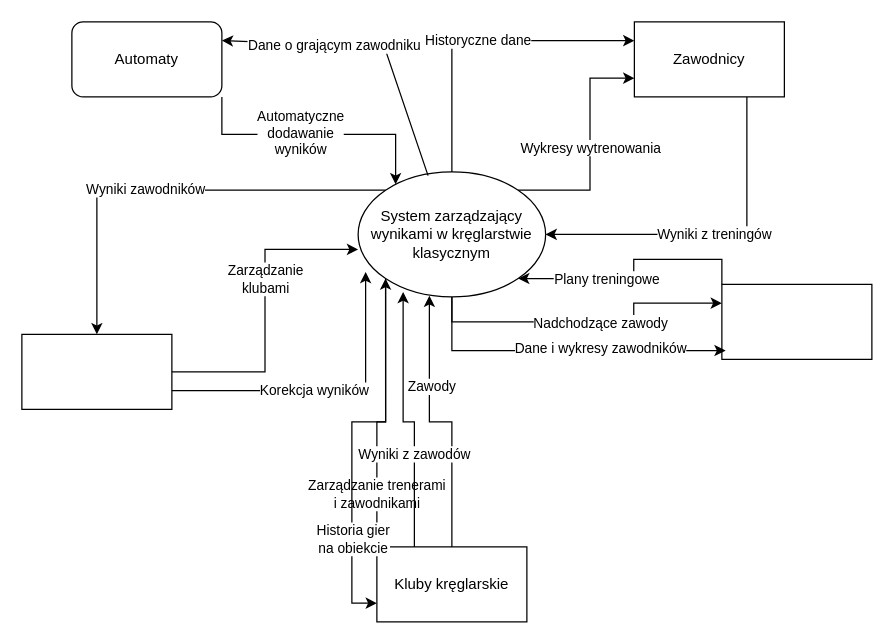
Some shapes in this 894 by 644 pixel diagram are drawn without their labels. The shapes that lost their labels are listed below. From the top down, each one's centre as x and y in pixels, then its label:
At [796,321]: "Trenerzy".
At [96,371]: "Administratorzy".
